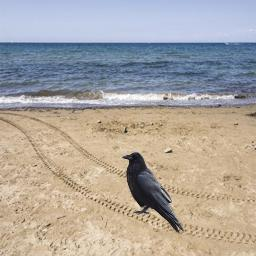Crow: (121, 151, 185, 235)
